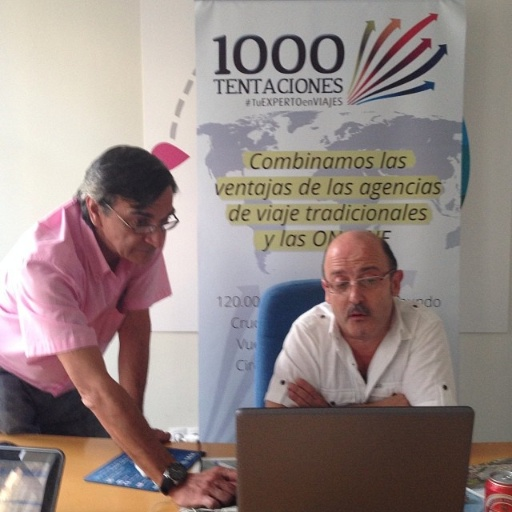hand: (174, 464, 237, 505), (287, 379, 333, 409), (379, 393, 412, 407), (153, 427, 169, 441)
